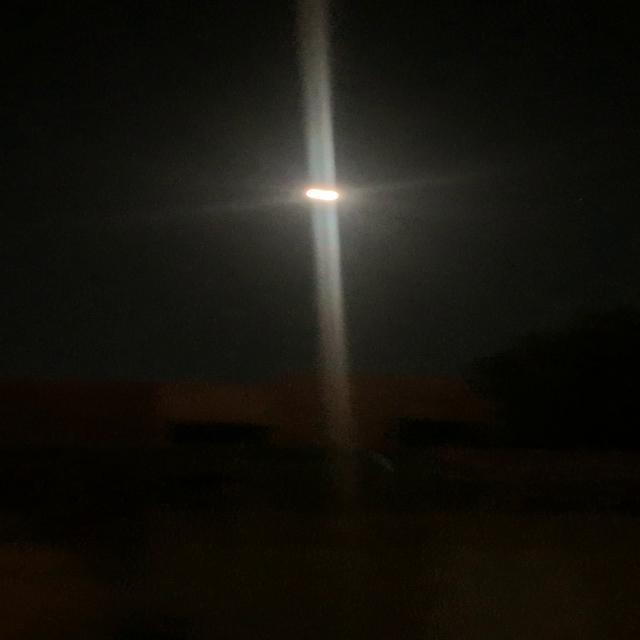moon: (286, 178, 351, 212)
